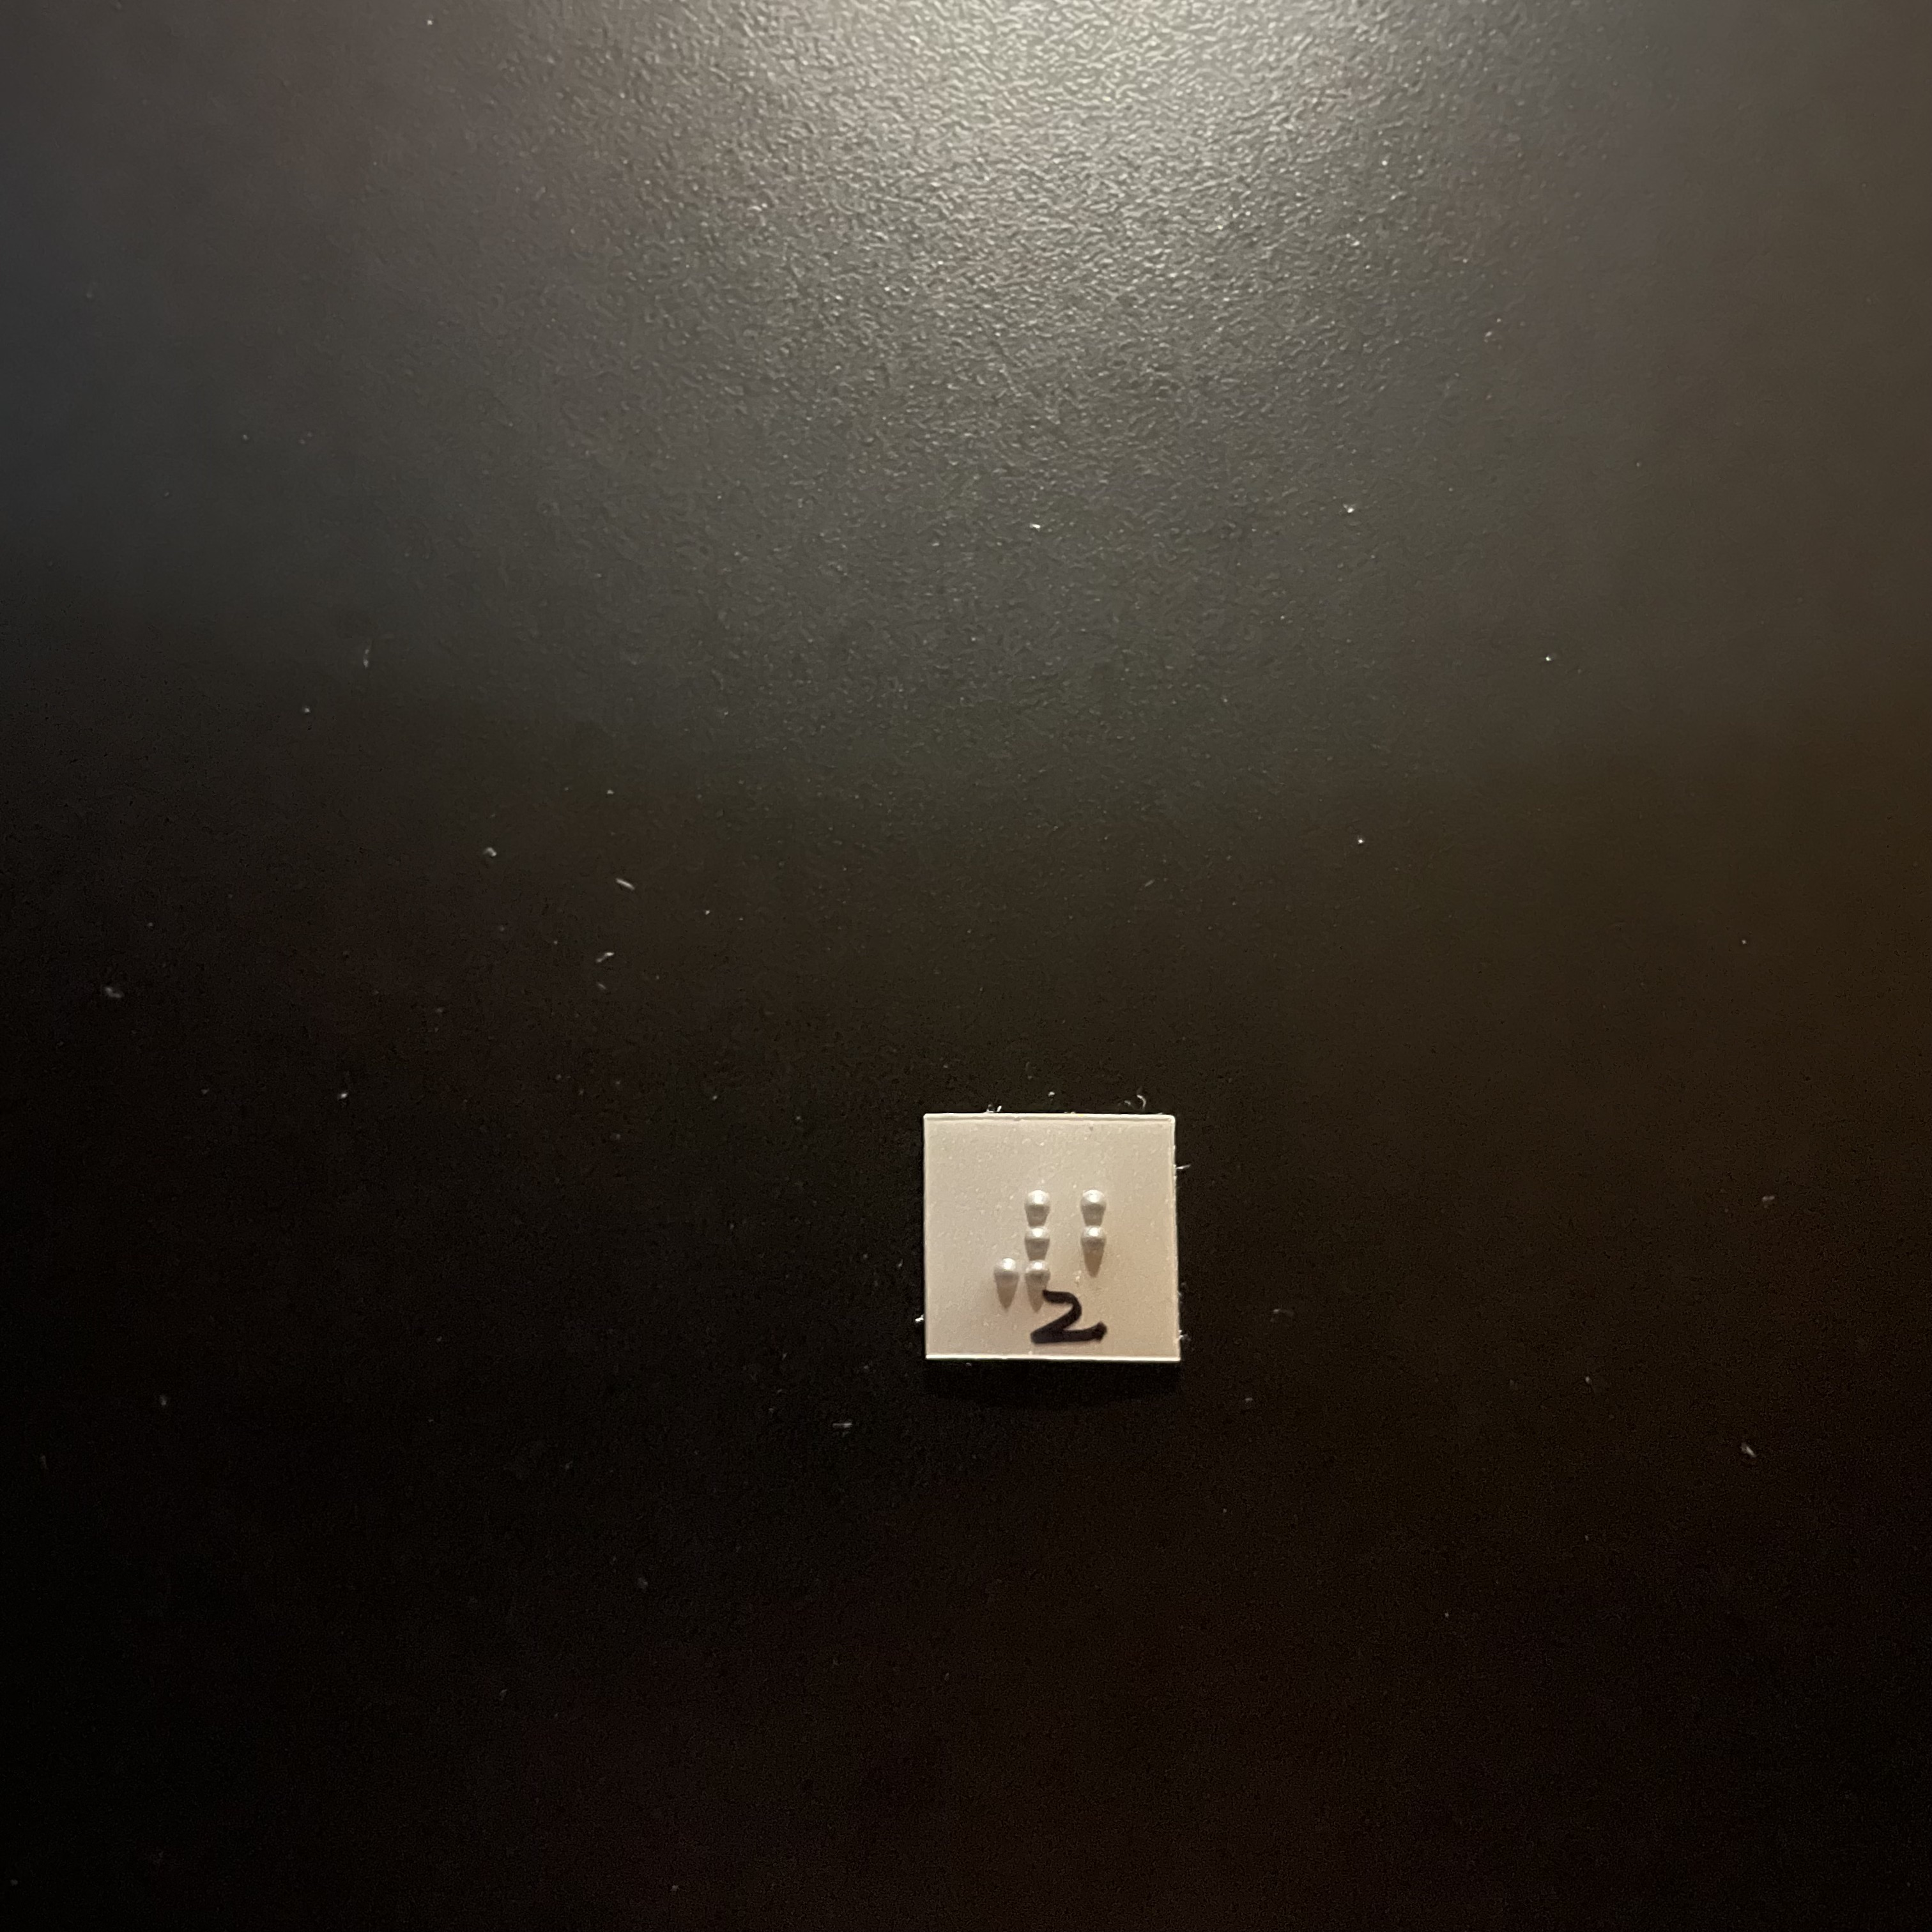#: (988, 1187, 1054, 1304)
b: (1073, 1185, 1142, 1307)
